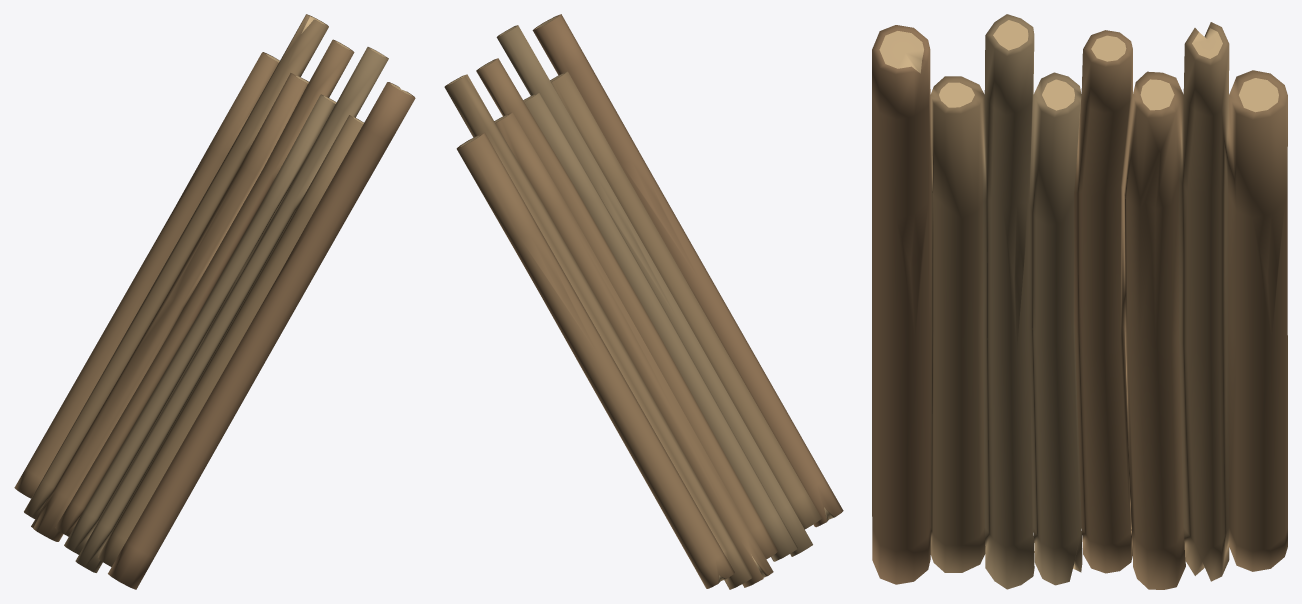
Rendered from rpgpp_ag_roof_01a_6x5x3_half.fbx.
3 views of the same model, side by side, from view 1: azimuth 30°, elevation 25°; view 2: azimuth 150°, elevation 25°; view 3: azimuth 270°, elevation 25° (orthographic). The views are drawn at different scales.
Visible parts, largest first — view 1: rpgpp_ag_roof_01a_6x5x3_half; view 2: rpgpp_ag_roof_01a_6x5x3_half; view 3: rpgpp_ag_roof_01a_6x5x3_half.
Part boxes in pixels (left/top/right/bottom): rpgpp_ag_roof_01a_6x5x3_half: left=14, top=14, right=415, bottom=589; rpgpp_ag_roof_01a_6x5x3_half: left=444, top=14, right=843, bottom=589; rpgpp_ag_roof_01a_6x5x3_half: left=872, top=14, right=1287, bottom=589.
Size of the model in its own units: 4.62 by 6.46 by 3.
